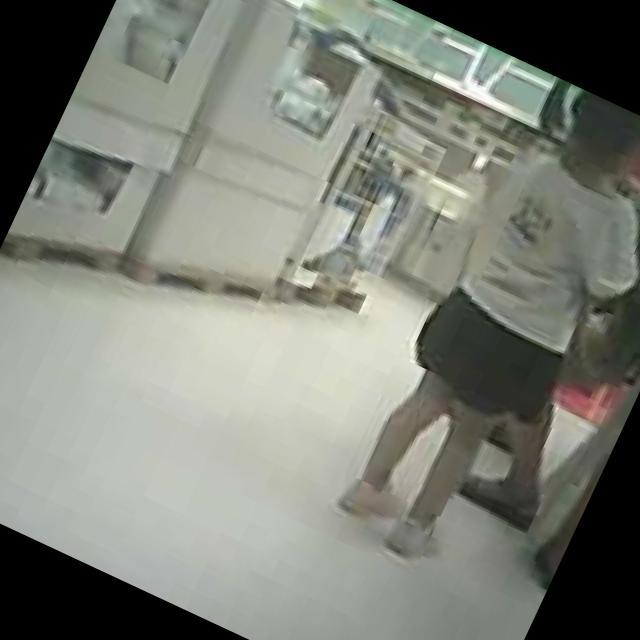person: (325, 68, 640, 603)
